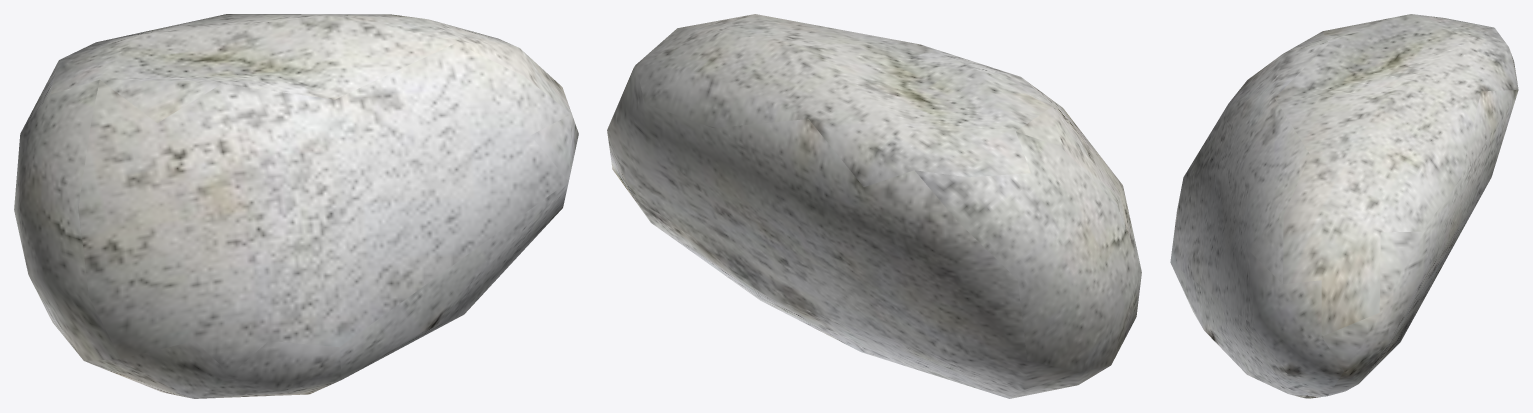
The model's file is rock.glb.
3 views of the same model, side by side, from view 1: azimuth 30°, elevation 25°; view 2: azimuth 150°, elevation 25°; view 3: azimuth 270°, elevation 25° (orthographic). The views are drawn at different scales.
Visible parts, largest first — view 1: rock030_lod4; view 2: rock030_lod4; view 3: rock030_lod4.
Part boxes in pixels (x1=…): rock030_lod4: x1=14, y1=14, x2=578, y2=398; rock030_lod4: x1=607, y1=14, x2=1141, y2=398; rock030_lod4: x1=1170, y1=14, x2=1518, y2=398.
Bounding box in the file's own units: 1 × 0.5729 × 0.6131.
1 material, 1 textured.
